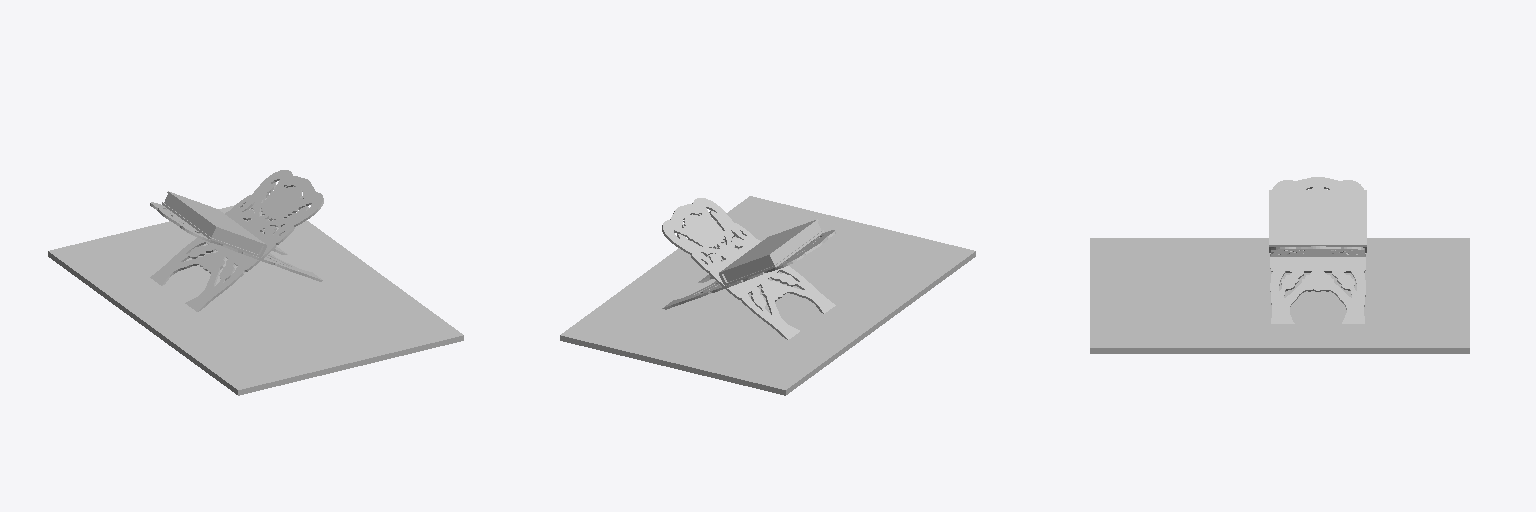
The model's file is Quran.obj.
3 renders of one model, left to right at view 1: azimuth 30°, elevation 25°; view 2: azimuth 150°, elevation 25°; view 3: azimuth 270°, elevation 25°, orthographic.
Parts seen in each view (by area): view 1: Carpet_Plane.003, Rehal_Left_Plane.001, Quran_Cube, Rehal_Right_Plane.002; view 2: Carpet_Plane.003, Rehal_Left_Plane.001, Quran_Cube, Rehal_Right_Plane.002; view 3: Carpet_Plane.003, Quran_Cube, Rehal_Right_Plane.002, Rehal_Left_Plane.001.
Part boxes in pixels (bbox=[...]): Carpet_Plane.003: bbox=[48, 198, 463, 395]; Rehal_Left_Plane.001: bbox=[150, 170, 323, 311]; Quran_Cube: bbox=[162, 191, 266, 257]; Rehal_Right_Plane.002: bbox=[150, 202, 322, 281]; Carpet_Plane.003: bbox=[560, 196, 975, 395]; Rehal_Left_Plane.001: bbox=[662, 198, 835, 339]; Quran_Cube: bbox=[719, 219, 823, 285]; Rehal_Right_Plane.002: bbox=[662, 230, 835, 309]; Carpet_Plane.003: bbox=[1090, 238, 1469, 353]; Quran_Cube: bbox=[1269, 190, 1366, 252]; Rehal_Right_Plane.002: bbox=[1270, 177, 1365, 323]; Rehal_Left_Plane.001: bbox=[1270, 246, 1365, 256].
Bounding box in the file's own units: 5.35 × 2.01 × 7.8.